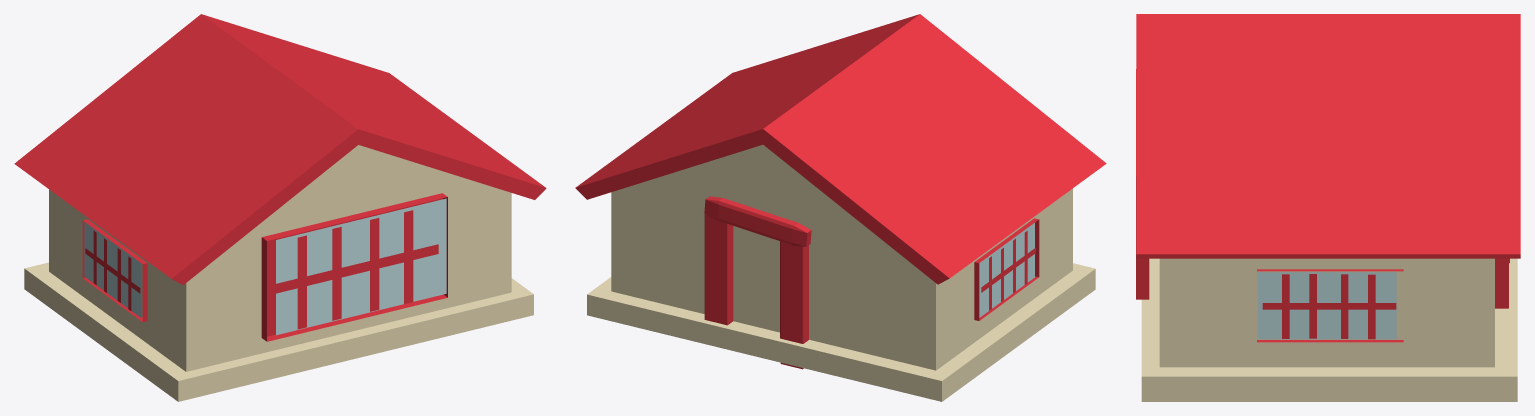
File: hus_svensson.gltf
3 views of the same model, side by side, from view 1: azimuth 30°, elevation 25°; view 2: azimuth 150°, elevation 25°; view 3: azimuth 270°, elevation 25° (orthographic). The views are drawn at different scales.
Parts seen in each view (by area): view 1: tak.019, hus.019, windowswe, windowram.008, windowswe.002, windowram.010; view 2: tak.019, hus.019, dorr.002, windowswe.002, windowram.010; view 3: tak.019, hus.019, windowswe.001, windowram.009, windowram.008, dorr.002.
Boxes of the visible parts, x1,y1,x2,y2 form: tak.019: (14, 14, 546, 284); hus.019: (24, 145, 533, 401); windowswe: (276, 198, 446, 335); windowram.008: (261, 193, 447, 341); windowswe.002: (84, 222, 140, 317); windowram.010: (82, 219, 147, 321); tak.019: (575, 14, 1106, 284); hus.019: (587, 144, 1095, 401); dorr.002: (704, 196, 811, 369); windowswe.002: (979, 223, 1034, 317); windowram.010: (974, 218, 1039, 320); tak.019: (1136, 14, 1520, 258); hus.019: (1141, 258, 1517, 401); windowswe.001: (1257, 272, 1396, 339); windowram.009: (1257, 269, 1403, 342); windowram.008: (1136, 69, 1149, 299); dorr.002: (1495, 258, 1509, 308).
Bounding box in the file's own units: 0.2554 × 0.1532 × 0.186.
